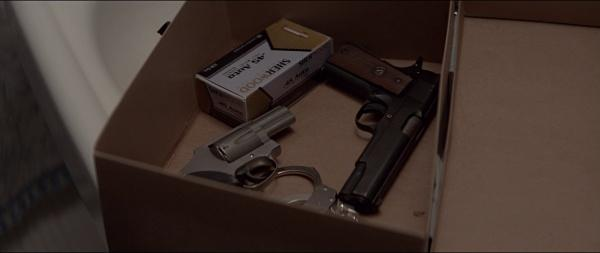Gun: (323, 39, 441, 215), (177, 104, 296, 190)
